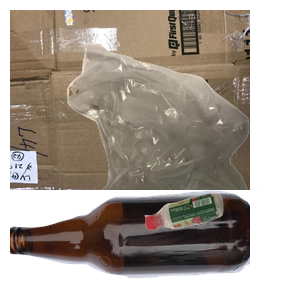cardboard: (10, 10, 250, 190)
glass: (10, 188, 250, 300)
plastic: (142, 191, 300, 300)
trash: (65, 41, 300, 221)
